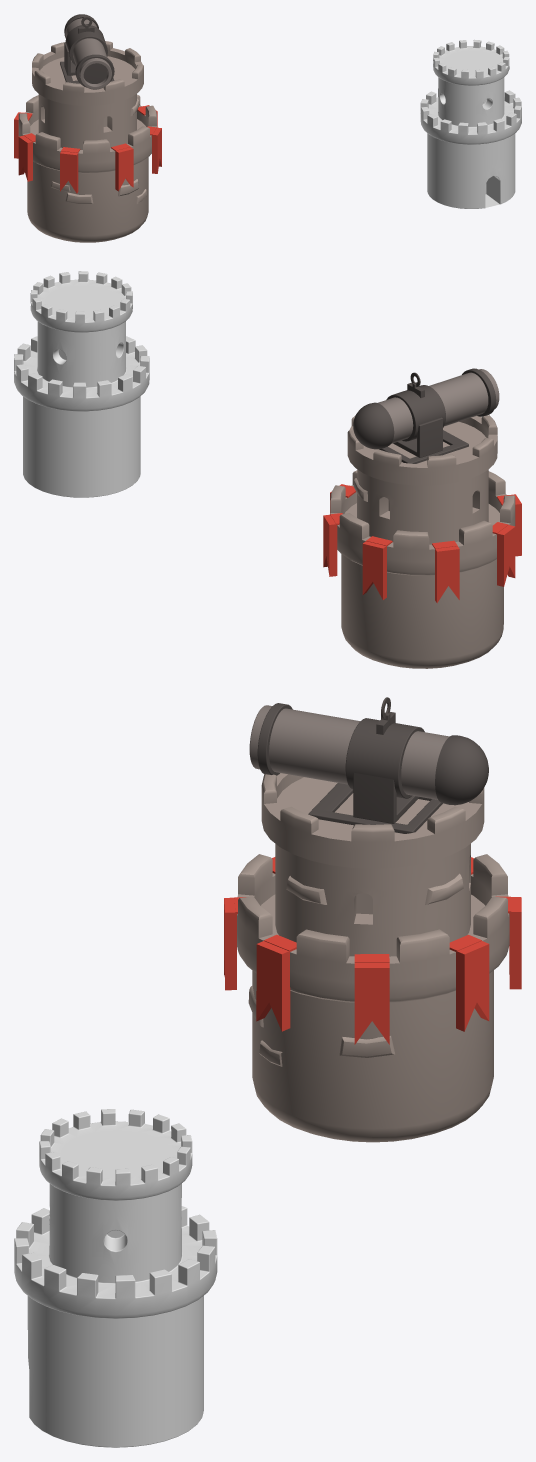
File: Башня — копия.fbx
3 renders of one model, top to bottom at view 1: azimuth 30°, elevation 25°; view 2: azimuth 150°, elevation 25°; view 3: azimuth 270°, elevation 25°, orthographic. The views are drawn at different scales.
Parts seen in each view (by area): view 1: Circle.001, Circle, Cylinder, Cylinder.002, Plane.016, Plane.014, Plane.012, Cylinder.001, Plane.004; view 2: Circle.001, Circle, Cylinder, Sphere, Cylinder.001, Plane.008, Plane.010, Cube, Plane.012, Plane.006, Plane, Cylinder.002; view 3: Circle.001, Circle, Cylinder, Cylinder.001, Sphere, Plane.004, Plane.006, Plane.002, Cube, Plane, Plane.008, Plane.016 (+1 smaller).
Boxes of the visible parts, box(x1,y1,x2,y2) form: Circle.001: box(18, 41, 156, 242); Circle: box(420, 39, 521, 208); Cylinder: box(66, 18, 111, 89); Cylinder.002: box(75, 54, 114, 87); Plane.016: box(115, 147, 133, 191); Plane.014: box(60, 151, 78, 193); Plane.012: box(18, 135, 32, 181); Cylinder.001: box(65, 25, 107, 65); Plane.004: box(152, 127, 161, 173); Circle.001: box(330, 415, 515, 668); Circle: box(14, 271, 149, 497); Cylinder: box(378, 369, 499, 443); Sphere: box(353, 402, 394, 449); Cylinder.001: box(386, 385, 445, 441); Plane.008: box(362, 541, 386, 599); Plane.010: box(435, 546, 459, 603); Cube: box(393, 417, 442, 457); Plane.012: box(497, 525, 515, 586); Plane.006: box(323, 514, 337, 576); Plane: box(379, 430, 468, 463); Cylinder.002: box(462, 368, 496, 416); Circle.001: box(237, 773, 509, 1142); Circle: box(14, 1109, 217, 1447); Cylinder: box(249, 705, 449, 799); Cylinder.001: box(345, 718, 424, 798); Sphere: box(435, 735, 488, 805); Plane.004: box(256, 941, 290, 1031); Plane.006: box(456, 941, 489, 1031); Plane.002: box(354, 962, 389, 1044); Cube: box(353, 772, 419, 823); Plane: box(308, 783, 442, 833); Plane.008: box(509, 897, 521, 989); Plane.016: box(224, 897, 236, 990).
Size of the model in its own units: 1633 by 737 by 838.
